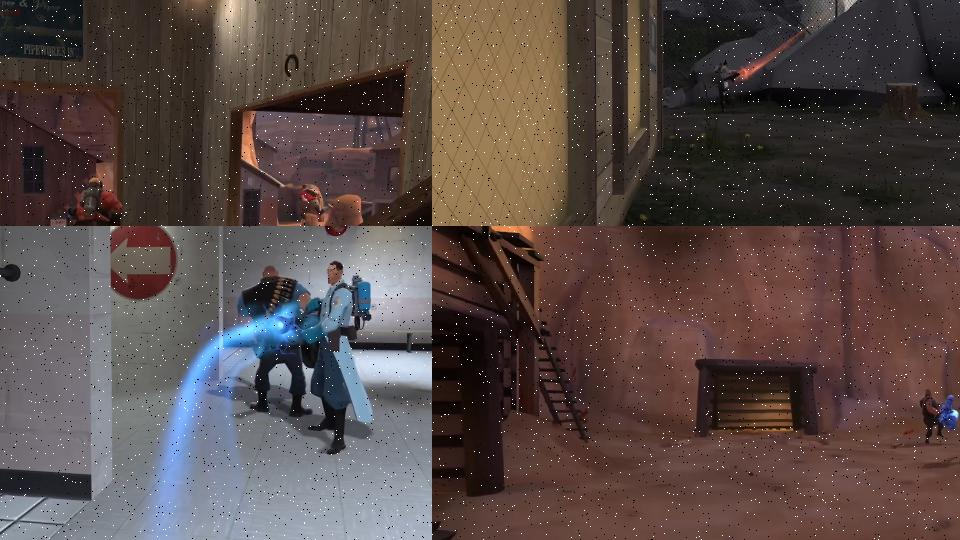Enemy: (294, 263, 370, 451), (235, 259, 312, 419), (61, 174, 133, 226), (918, 388, 958, 444), (290, 180, 336, 226), (713, 60, 745, 113)
